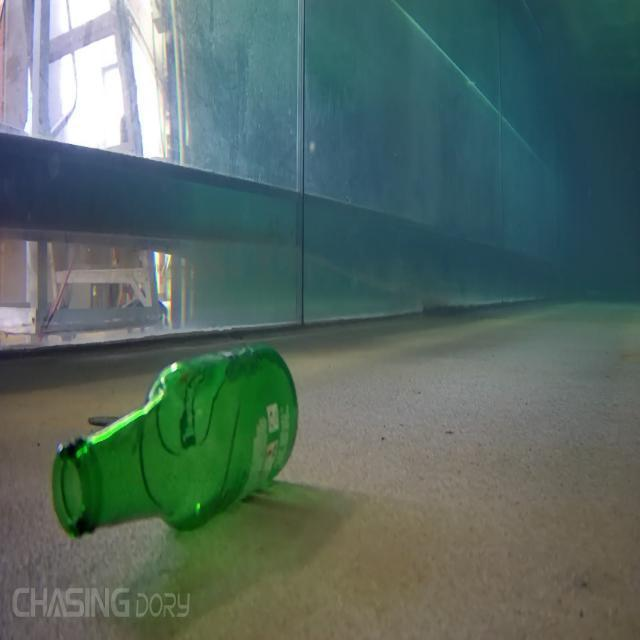Glass: (51, 343, 299, 539)
